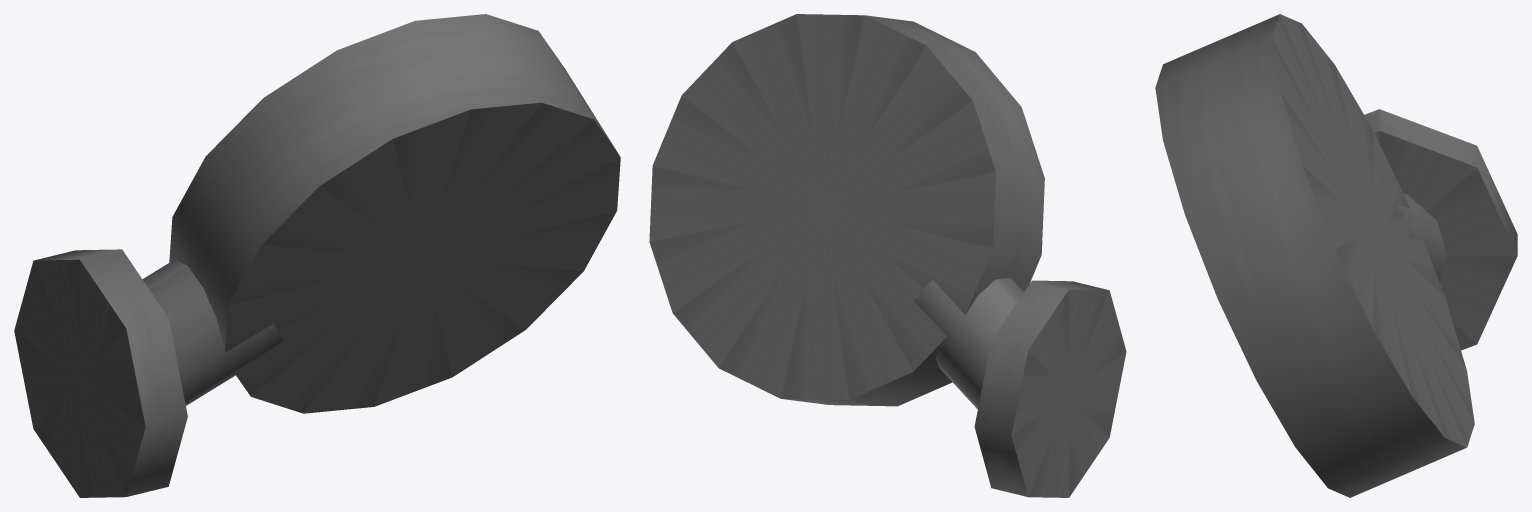
The model's file is mastarmcurve_8x2_c0_west.obj.
3 views of the same model, side by side, from view 1: azimuth 30°, elevation 25°; view 2: azimuth 150°, elevation 25°; view 3: azimuth 270°, elevation 25° (orthographic). The views are drawn at different scales.
Visible parts, largest first — view 1: mastarm_8x2_c0_west; view 2: mastarm_8x2_c0_west; view 3: mastarm_8x2_c0_west.
Boxes of the visible parts, x1,y1,x2,y2 form: mastarm_8x2_c0_west: [14, 14, 620, 497]; mastarm_8x2_c0_west: [649, 14, 1126, 497]; mastarm_8x2_c0_west: [1155, 14, 1517, 497].
Size of the model in its own units: 0.8412 by 0.7472 by 0.5245.
